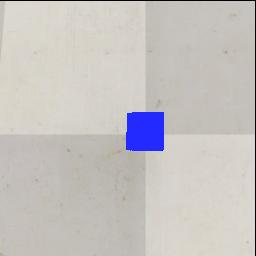box: (126, 111, 164, 151)
